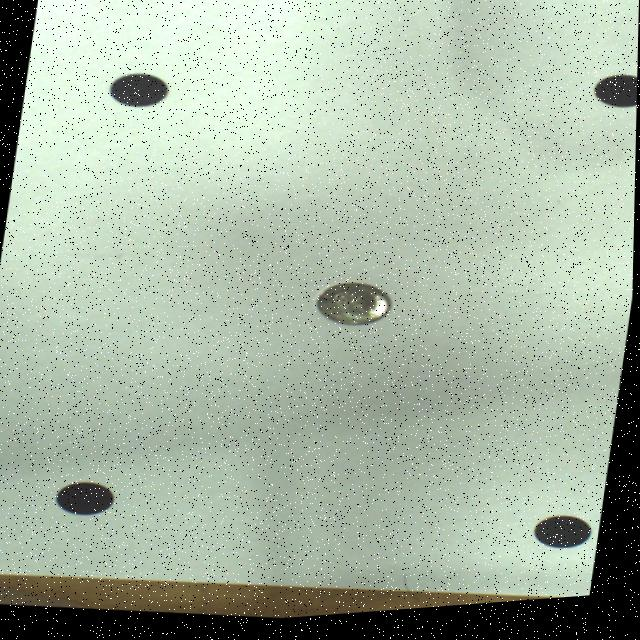space: (108, 75, 169, 109), (56, 483, 115, 516), (535, 525, 593, 557), (594, 85, 638, 117)
tail1bath: (318, 288, 391, 331)
